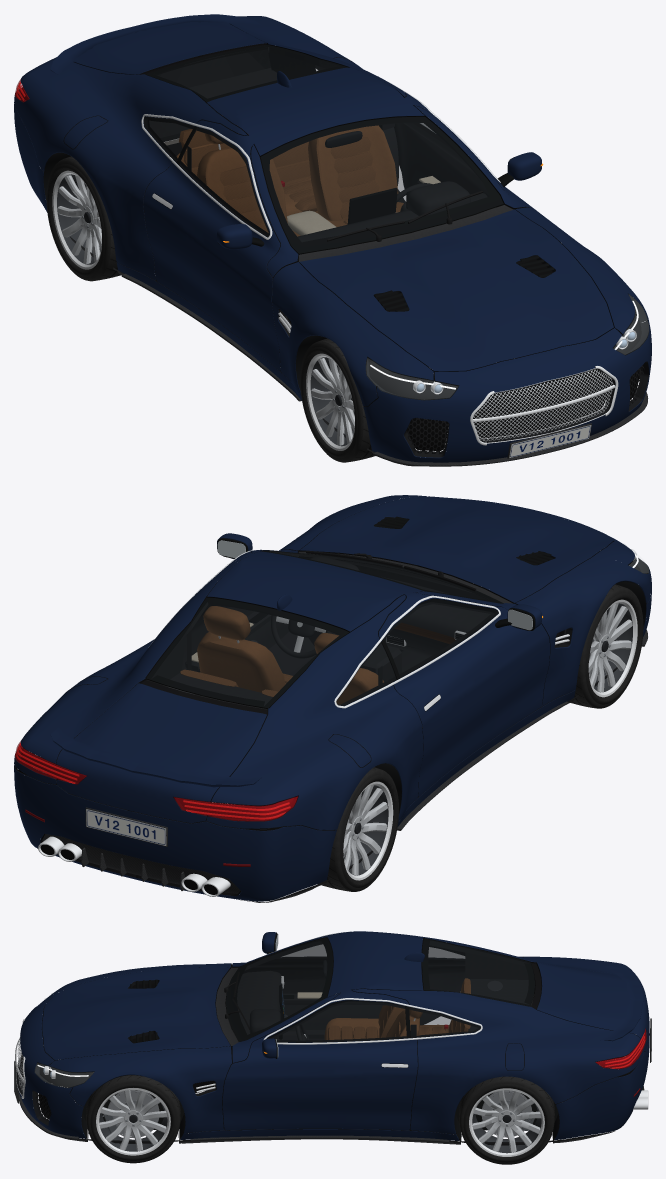
The picture shows the model from 3 angles, top to bottom: view 1: azimuth 30°, elevation 25°; view 2: azimuth 150°, elevation 25°; view 3: azimuth 270°, elevation 25°; orthographic projection. The views are drawn at different scales.
Parts seen in each view (by area): view 1: Body, Wheel_RR, Wheel_FR; view 2: Body, Wheel_RR, Wheel_FR, Steering_Wheel; view 3: Body, Wheel_RL, Wheel_FL.
Boxes of the visible parts, box(x1,y1,x2,y2) form: Body: box(14, 14, 651, 466); Wheel_RR: box(46, 156, 124, 281); Wheel_FR: box(300, 338, 375, 462); Body: box(14, 495, 651, 902); Wheel_RR: box(318, 767, 398, 891); Wheel_FR: box(568, 584, 643, 708); Steering_Wheel: box(271, 615, 331, 658); Body: box(14, 931, 651, 1145); Wheel_RL: box(459, 1076, 554, 1164); Wheel_FL: box(86, 1075, 180, 1163).
Bounding box in the file's own units: 2.08 × 1.33 × 4.78.
Materials: 61 (15 with a texture image).
